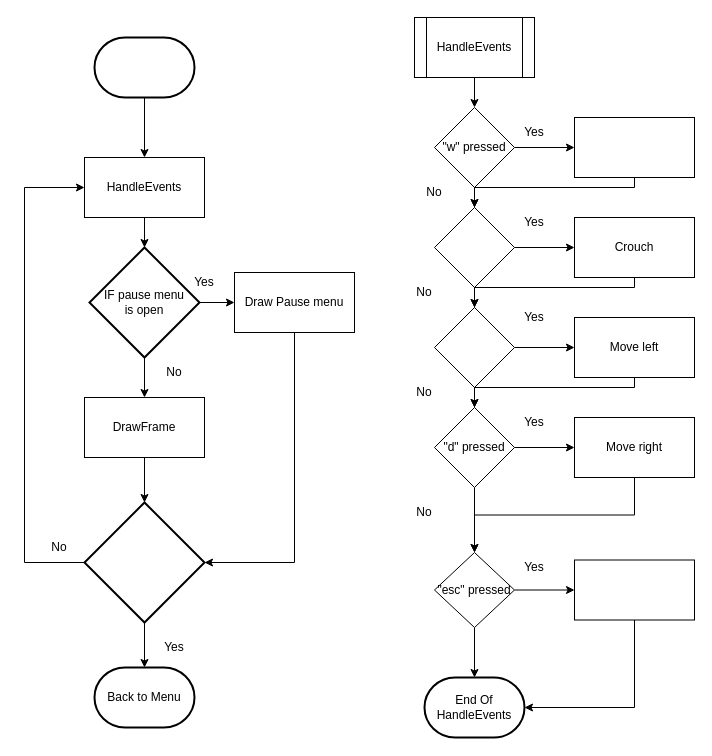
Some shapes in this 712 by 756 pixel diagram are drawn without their labels. The shapes that lost their labels are listed below. From the top down, each one's centre as x and y in pixels, then its label:
(144,67): Gameloop Begin
(634,147): Jump
(474,247): "s" pressed
(474,347): "a" pressed
(144,562): If Completed level or exited game
(634,589): Open/close Pause Menu
